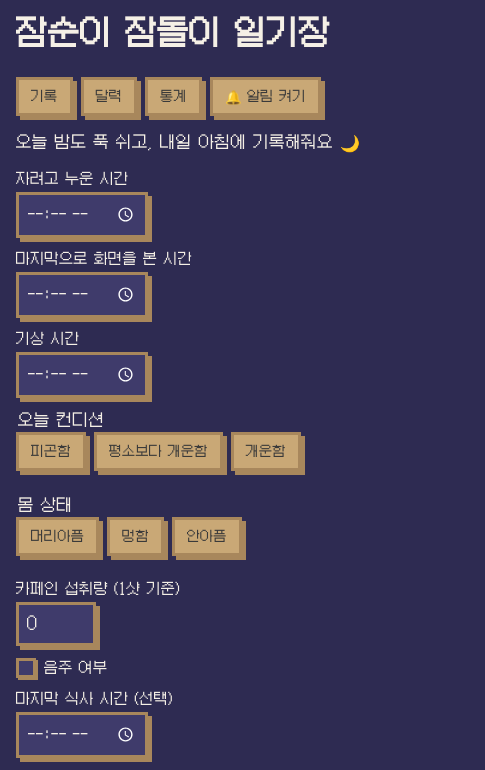
Test: App › switches to the 달력 tab
The width and height of the screenshot is (485, 770).
Click the button "달력".
click(109, 96)  # box [81,77,137,116]
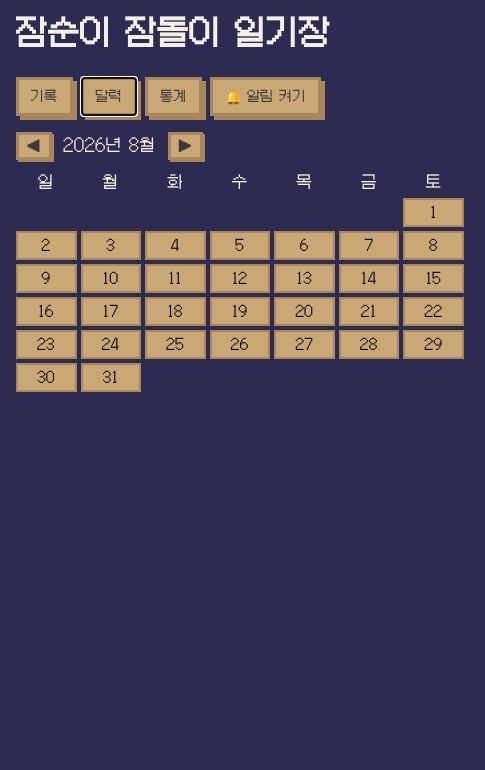
Expected: the text "2026년 8월" is shown, [64,135,156,157]
